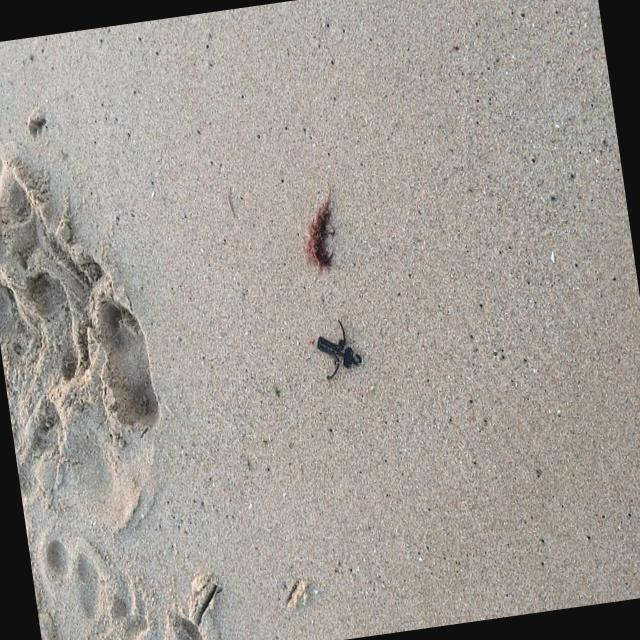Trash: (310, 314, 368, 382)
